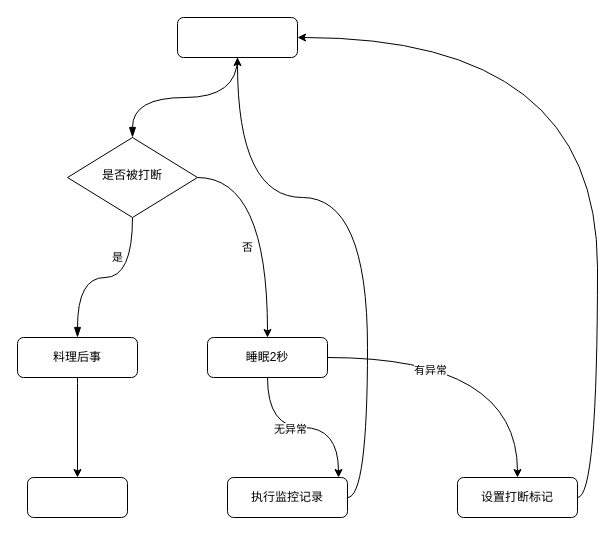
Image size: 615x535. Some labels were removed from this diagram. The centre of each missing label's shape, as x and y in pixels:
"while(true)" goes at point (237, 37).
"结束循环" goes at point (77, 497).
